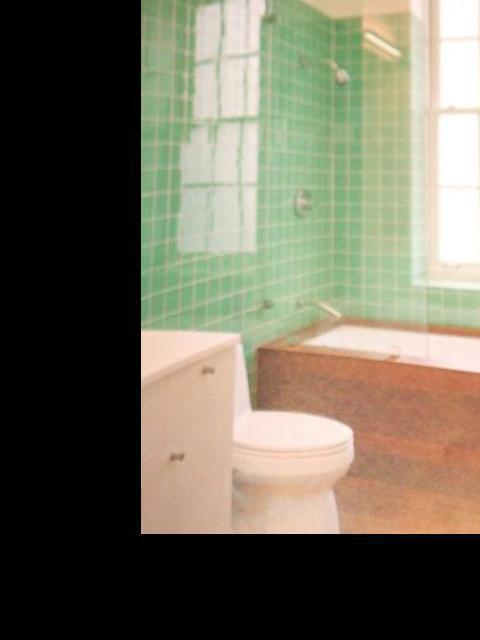Sanitario: (185, 329, 361, 568)
